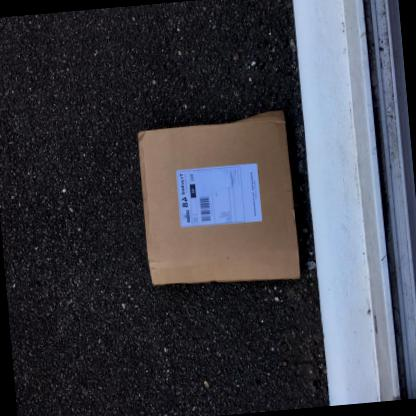box: (136, 107, 305, 295)
